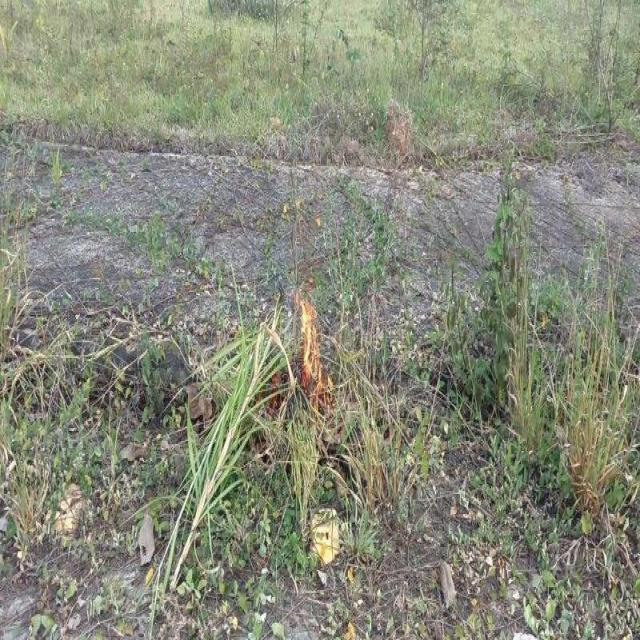Fire: (299, 291, 329, 391)
